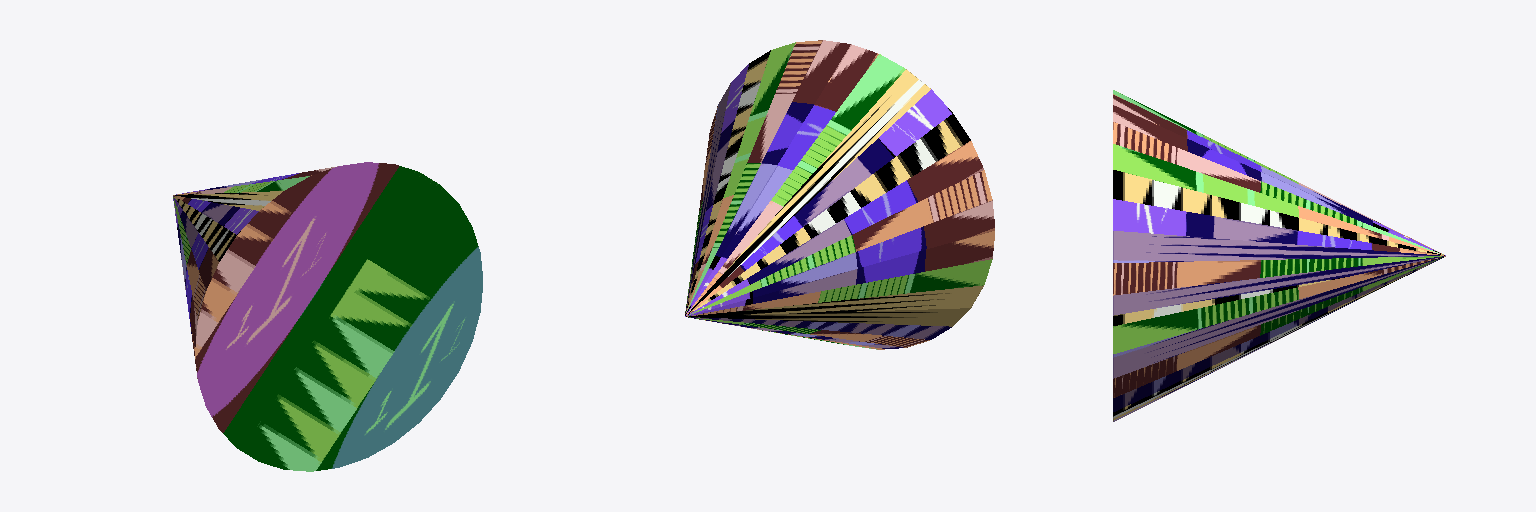
The picture shows the model from 3 angles: view 1: azimuth 30°, elevation 25°; view 2: azimuth 150°, elevation 25°; view 3: azimuth 270°, elevation 25°; orthographic projection.
Parts seen in each view (by area): view 1: Cone; view 2: Cone; view 3: Cone.
Part boxes in pixels (x1,y1,x2,y2): Cone: (173, 162, 482, 471); Cone: (685, 40, 994, 349); Cone: (1113, 90, 1445, 421).
Size of the model in its own units: 2 by 2 by 2.
Materials: 1 (1 with a texture image).